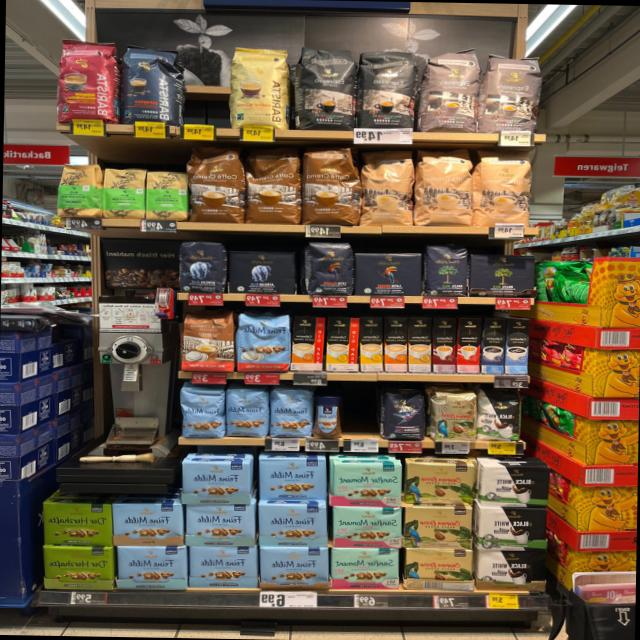AB Bohne: (176, 240, 228, 294)
AB Gemahlen: (226, 249, 296, 295)
Athiopien Bohne: (54, 162, 104, 218)
Athiopien Gemahlen: (101, 166, 148, 220), (144, 170, 190, 220)
BM Bohne: (422, 239, 471, 297)
BM Gemahlen: (466, 254, 536, 298)
BW Bohne: (477, 388, 522, 442)
BW Gemahlen: (479, 465, 551, 507), (478, 507, 546, 551), (475, 549, 546, 591)
Barista CB: (227, 46, 296, 132)
Barista Espresso: (119, 42, 187, 128)
Barista Kolumbien: (54, 37, 122, 124)
C Fino Bohne: (379, 386, 427, 441)
CC Mild: (472, 148, 534, 228), (414, 146, 474, 228), (359, 148, 416, 228)
CC Vollmundig: (178, 307, 236, 373)
CC Vollmundig 36 Pads: (300, 144, 362, 226), (185, 144, 247, 224), (245, 144, 302, 225)
Colombia BB Bohne: (428, 388, 478, 442)
Colombia BB Gemahlen: (403, 462, 478, 504), (402, 506, 474, 548), (403, 547, 474, 589)
Empty Shelf: (345, 392, 378, 438)
Espresso Aromatisch: (414, 44, 488, 134), (476, 54, 546, 137)
Espresso Kraftig: (292, 46, 362, 132), (354, 47, 424, 132)
FM 36 Pads: (234, 310, 292, 374)
FM Bohne: (178, 386, 226, 438), (226, 386, 270, 438), (270, 386, 314, 438)
FM Gemahlen: (114, 544, 188, 590), (184, 503, 256, 548), (111, 502, 184, 546), (180, 460, 252, 504), (259, 546, 329, 590), (257, 504, 328, 547), (187, 545, 258, 588), (258, 458, 326, 500)
FM Instant: (312, 391, 344, 439)
Herzhatfe Mundig: (42, 546, 114, 590), (42, 502, 112, 545)
LG Bohne: (302, 240, 354, 296)
LG Gemahlen: (353, 251, 423, 297)
SM Gemahlen: (330, 463, 402, 506), (330, 546, 400, 590), (332, 506, 403, 548)
Simo CCMild: (324, 316, 359, 371)
Simo CCMild bigpack: (359, 316, 383, 372)
Simo CCVollmundig: (289, 316, 326, 372)
Simo CCVollmundig bigpack: (383, 316, 408, 372)
Simo Decaff: (407, 316, 432, 372)
Simo Es Elegant: (456, 318, 482, 373)
Simo Es Kraft: (431, 317, 457, 373)
Simo Kaffee Kraft: (479, 318, 507, 374)
Simo Kaffee Mild: (504, 317, 531, 374)
